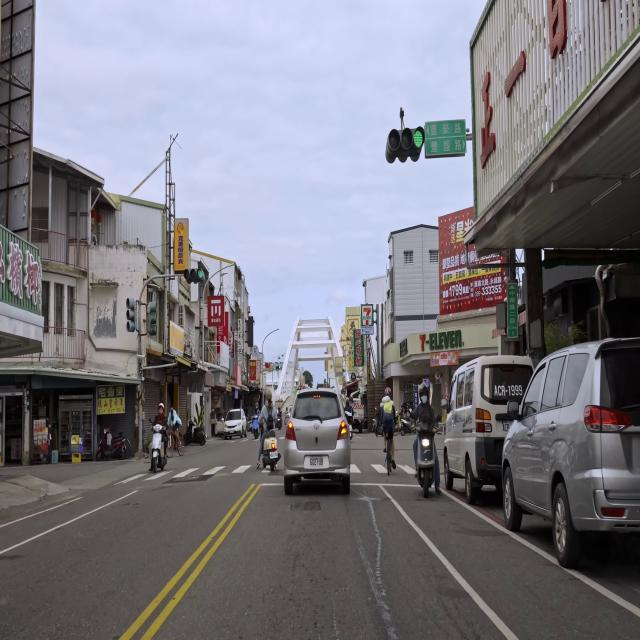green light: (388, 128, 423, 152), (184, 269, 204, 280)
